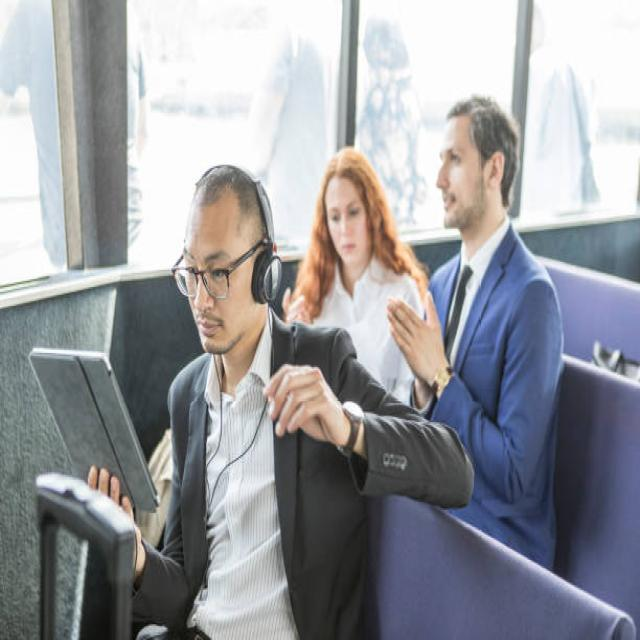Headphone: (192, 162, 282, 306)
